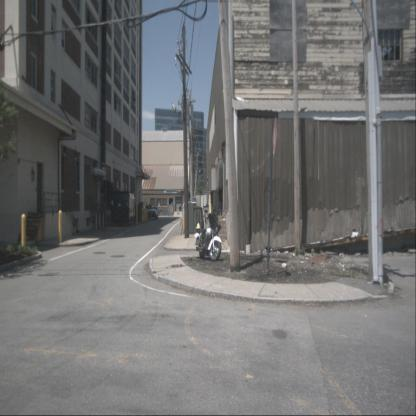cone: (160, 210, 162, 216)
